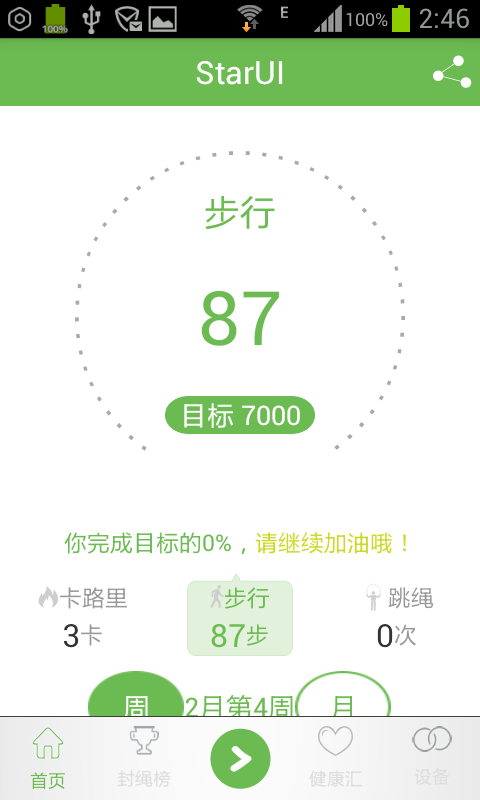nav: (1, 712, 479, 799)
